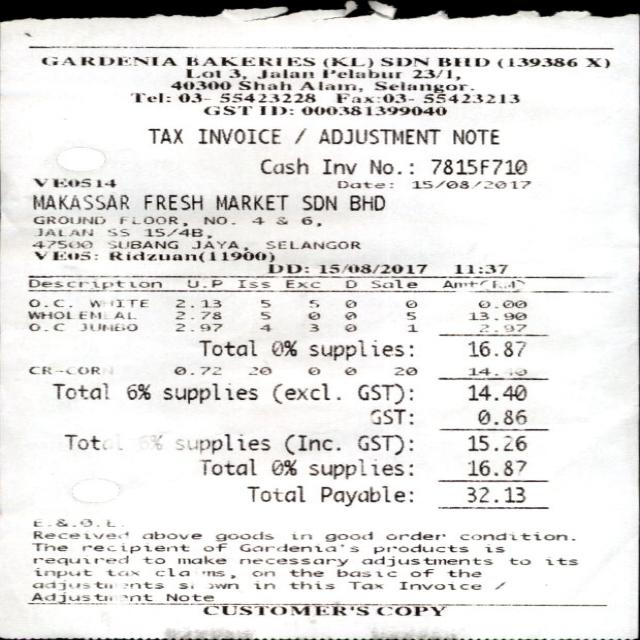text: (308, 339, 411, 360), (308, 458, 411, 479), (108, 249, 274, 262), (173, 432, 270, 454), (320, 484, 411, 506), (162, 382, 256, 403), (317, 128, 439, 144), (202, 605, 368, 615), (430, 158, 526, 175), (299, 105, 445, 116), (360, 554, 492, 566), (184, 54, 314, 66), (31, 194, 127, 210), (39, 55, 176, 66), (29, 579, 160, 590), (272, 382, 340, 403), (31, 591, 152, 602), (28, 278, 161, 288), (198, 127, 279, 143), (81, 542, 188, 554), (355, 382, 412, 404), (374, 80, 474, 92), (412, 179, 529, 189), (214, 194, 287, 210), (33, 554, 129, 566), (355, 434, 412, 454), (284, 434, 339, 454), (459, 530, 567, 540), (319, 263, 426, 273), (218, 91, 315, 102), (246, 484, 304, 502), (64, 433, 123, 450), (26, 310, 136, 319), (237, 557, 347, 566), (198, 339, 256, 356), (466, 339, 524, 356), (466, 384, 524, 401), (466, 434, 524, 451), (466, 459, 524, 476), (466, 485, 524, 502), (201, 456, 255, 474), (421, 93, 518, 103), (238, 544, 358, 552), (51, 382, 106, 399), (144, 194, 202, 210), (374, 543, 466, 553), (495, 56, 576, 67), (333, 91, 413, 102), (264, 240, 359, 249), (33, 177, 115, 187), (442, 278, 524, 288), (259, 157, 307, 174), (321, 68, 401, 78), (450, 128, 498, 144), (27, 365, 112, 374), (367, 408, 412, 425), (33, 530, 127, 538), (399, 580, 480, 589), (476, 409, 524, 424), (374, 605, 444, 615), (154, 566, 223, 576), (368, 159, 413, 174), (170, 79, 229, 90), (33, 567, 92, 578), (33, 250, 97, 260), (33, 518, 113, 526), (214, 530, 272, 541), (320, 56, 373, 68), (108, 240, 178, 249), (298, 81, 359, 91), (236, 79, 291, 90), (189, 240, 247, 250), (466, 366, 524, 376), (146, 127, 182, 143), (256, 69, 313, 79), (451, 263, 508, 273), (325, 530, 372, 542), (349, 194, 384, 210), (33, 216, 103, 224), (322, 158, 356, 174), (302, 194, 336, 210), (140, 530, 200, 539), (336, 568, 396, 577), (385, 531, 444, 540), (144, 227, 202, 236), (90, 298, 148, 307), (466, 312, 524, 321), (37, 227, 91, 236), (369, 278, 417, 288), (173, 322, 221, 332), (476, 322, 524, 332), (177, 554, 225, 564), (32, 240, 91, 248), (77, 322, 136, 330), (437, 57, 488, 66), (270, 339, 296, 356), (337, 180, 392, 188), (379, 56, 427, 65), (203, 106, 251, 115), (476, 299, 524, 308), (172, 365, 220, 374), (166, 592, 213, 601), (130, 91, 168, 102), (124, 383, 150, 399), (270, 459, 296, 475), (266, 263, 307, 273), (118, 216, 176, 223), (175, 298, 220, 307), (175, 310, 220, 319), (288, 580, 333, 589), (184, 67, 220, 78), (27, 298, 71, 307), (411, 68, 450, 78), (136, 434, 162, 449), (31, 542, 67, 551), (186, 278, 221, 287), (284, 278, 319, 287), (445, 568, 480, 577), (258, 106, 292, 115), (104, 567, 138, 576), (289, 568, 323, 577), (177, 91, 204, 102), (347, 580, 380, 589), (238, 278, 270, 287), (28, 323, 63, 331), (202, 216, 235, 224), (583, 57, 609, 67), (545, 558, 577, 566), (392, 366, 416, 376), (293, 126, 306, 144), (200, 542, 226, 551), (206, 581, 237, 588), (246, 366, 270, 374), (410, 568, 431, 577), (289, 530, 311, 538), (142, 556, 164, 564), (508, 556, 529, 564), (106, 228, 127, 235), (252, 569, 273, 576), (226, 68, 240, 77), (403, 298, 417, 307), (343, 278, 356, 287), (343, 310, 356, 319), (485, 546, 504, 552), (254, 583, 273, 589), (299, 216, 313, 224), (307, 298, 319, 307), (259, 298, 271, 307), (259, 310, 271, 319), (307, 310, 319, 319), (275, 216, 287, 224), (251, 216, 263, 224), (307, 367, 319, 375), (345, 322, 354, 332), (345, 299, 356, 307), (344, 367, 355, 375), (178, 582, 192, 588), (309, 322, 317, 332), (494, 580, 504, 588), (408, 323, 417, 331), (258, 324, 269, 330), (405, 311, 413, 319)
